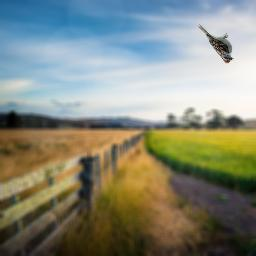Sparrow: (198, 24, 234, 64)
